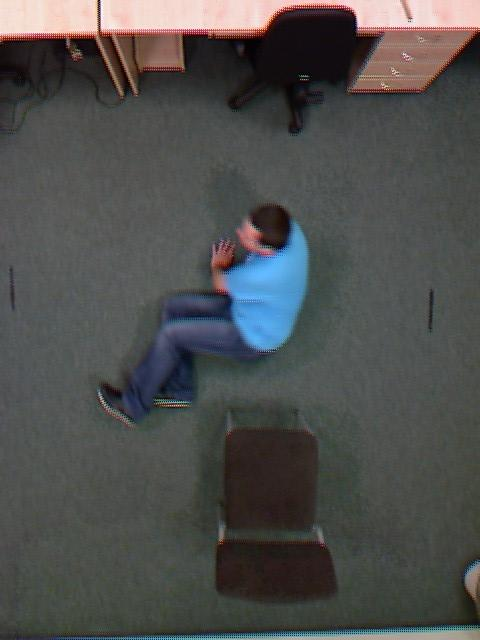fall: (120, 166, 308, 461)
